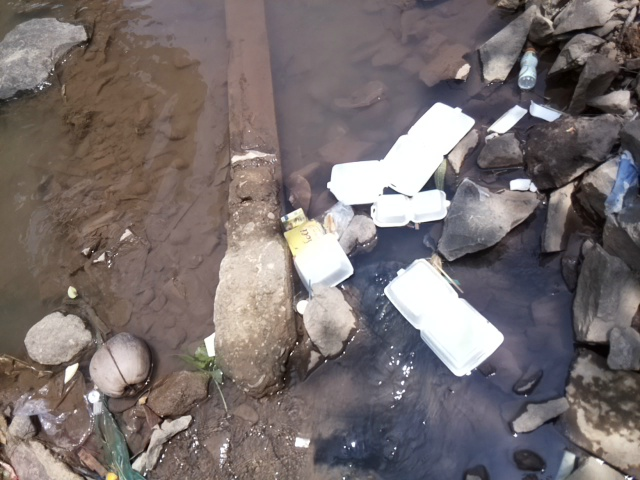Sampah_Botol_Plastik: (516, 41, 545, 93)
Sampah_Styrofoam: (323, 97, 478, 229), (385, 254, 508, 382), (283, 237, 356, 291), (487, 100, 567, 137)
